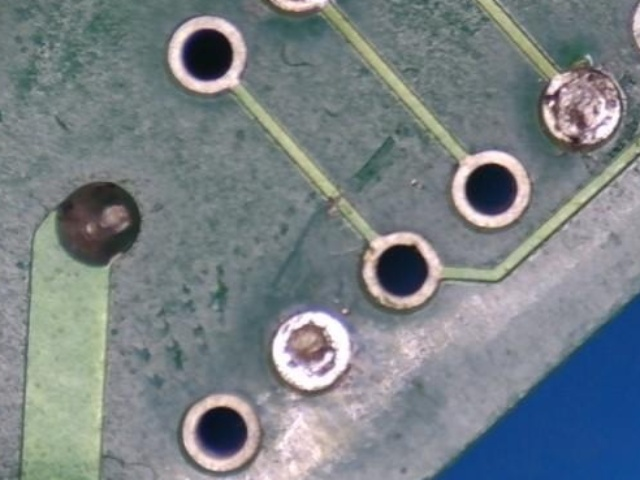pcb_defect: (273, 312, 350, 390), (542, 69, 620, 143), (257, 0, 336, 11)
